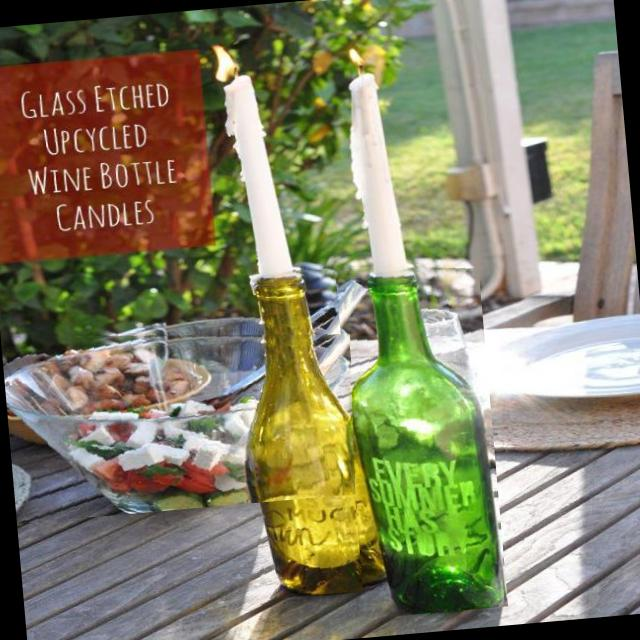Glass: (0, 306, 363, 524), (334, 254, 508, 618), (233, 259, 379, 599)
